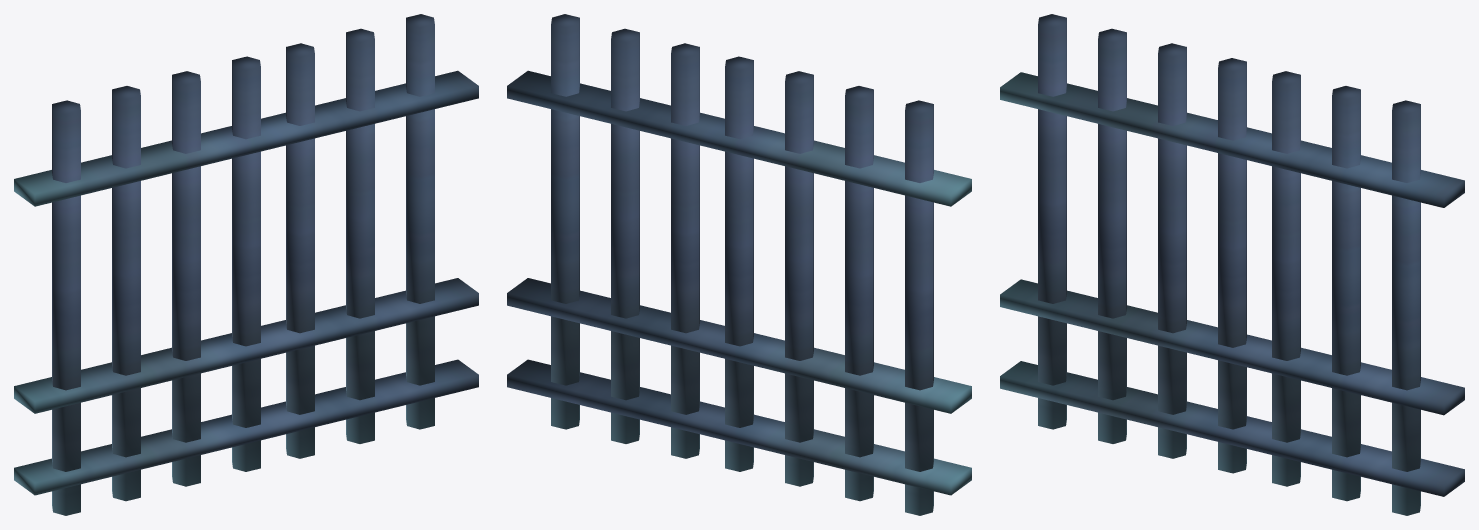
The model's file is Frogames_DP_grid.FBX.
The picture shows the model from 3 angles, left to right: view 1: azimuth 30°, elevation 25°; view 2: azimuth 150°, elevation 25°; view 3: azimuth 330°, elevation 25°; orthographic projection.
Parts seen in each view (by area): view 1: grid; view 2: grid; view 3: grid.
Part boxes in pixels (x1,y1,x2,y2): grid: [14, 14, 478, 515]; grid: [507, 14, 971, 515]; grid: [1000, 14, 1464, 515].
Size of the model in its own units: 9.25 by 0.75 by 8.
